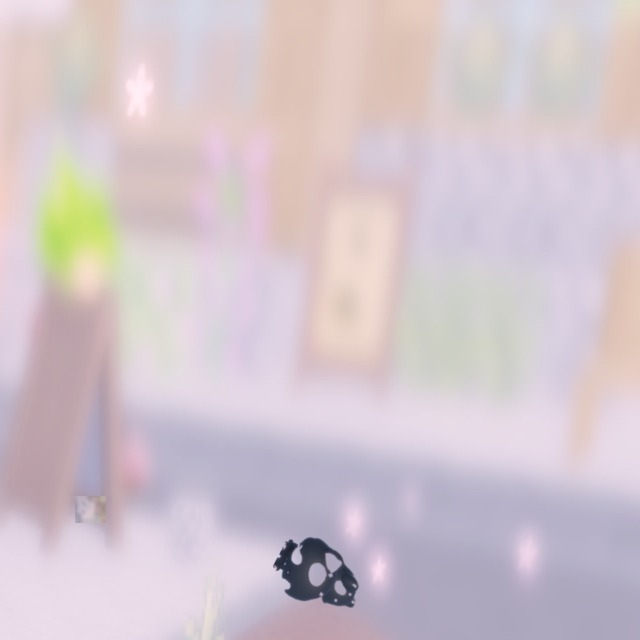urso_branco: (75, 496, 106, 523)
urso_preto: (261, 523, 381, 633)
